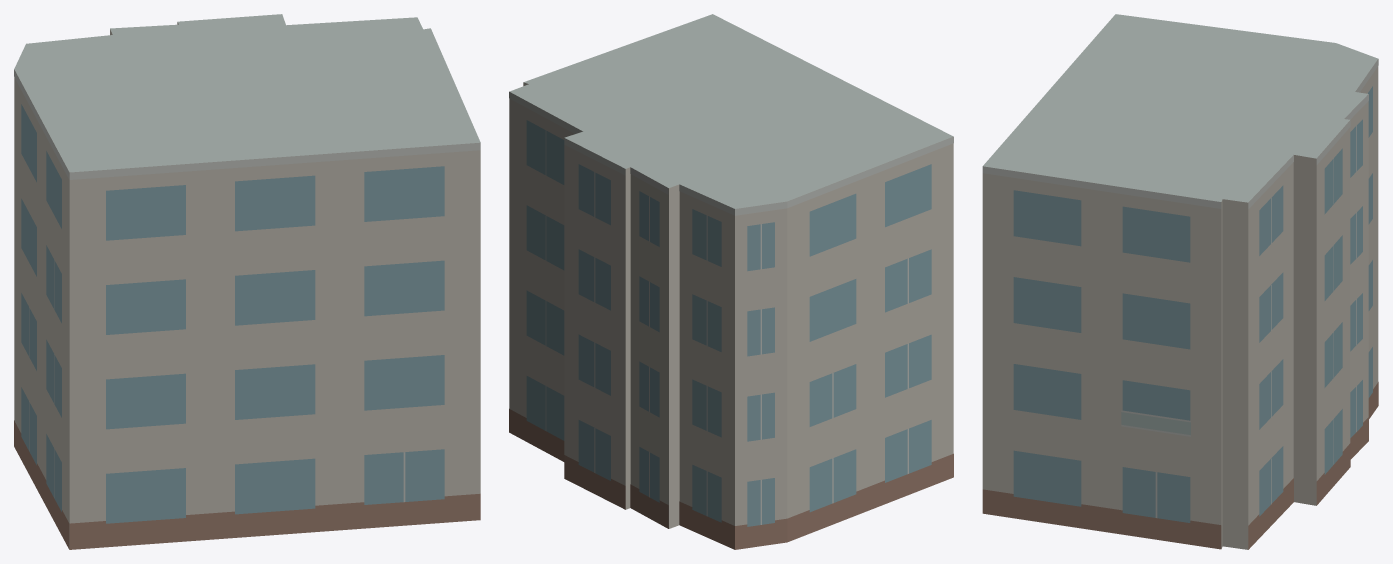
Rendered from survey-upis-32682121.glb.
The picture shows the model from 3 angles, left to right: view 1: azimuth 30°, elevation 25°; view 2: azimuth 150°, elevation 25°; view 3: azimuth 270°, elevation 25°; orthographic projection. The views are drawn at different scales.
Parts seen in each view (by area): view 1: survey-upis-32682121.tmp; view 2: survey-upis-32682121.tmp; view 3: survey-upis-32682121.tmp.
Part boxes in pixels (bbox=[...]): survey-upis-32682121.tmp: bbox=[14, 14, 480, 549]; survey-upis-32682121.tmp: bbox=[509, 14, 953, 549]; survey-upis-32682121.tmp: bbox=[982, 14, 1378, 549].
Bounding box in the file's own units: 14.22 × 12.2 × 12.61.
